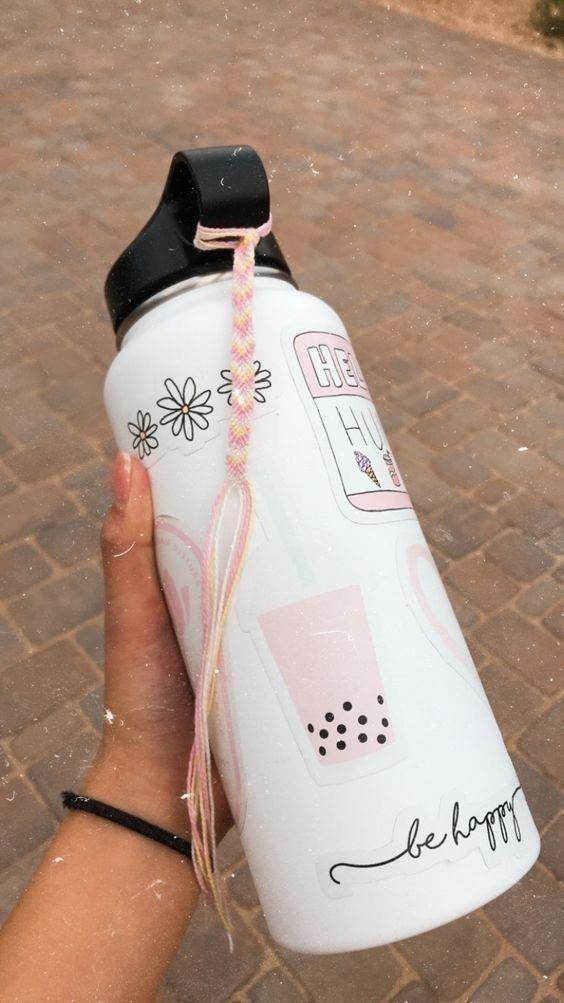gym bottle: (101, 145, 540, 953)
